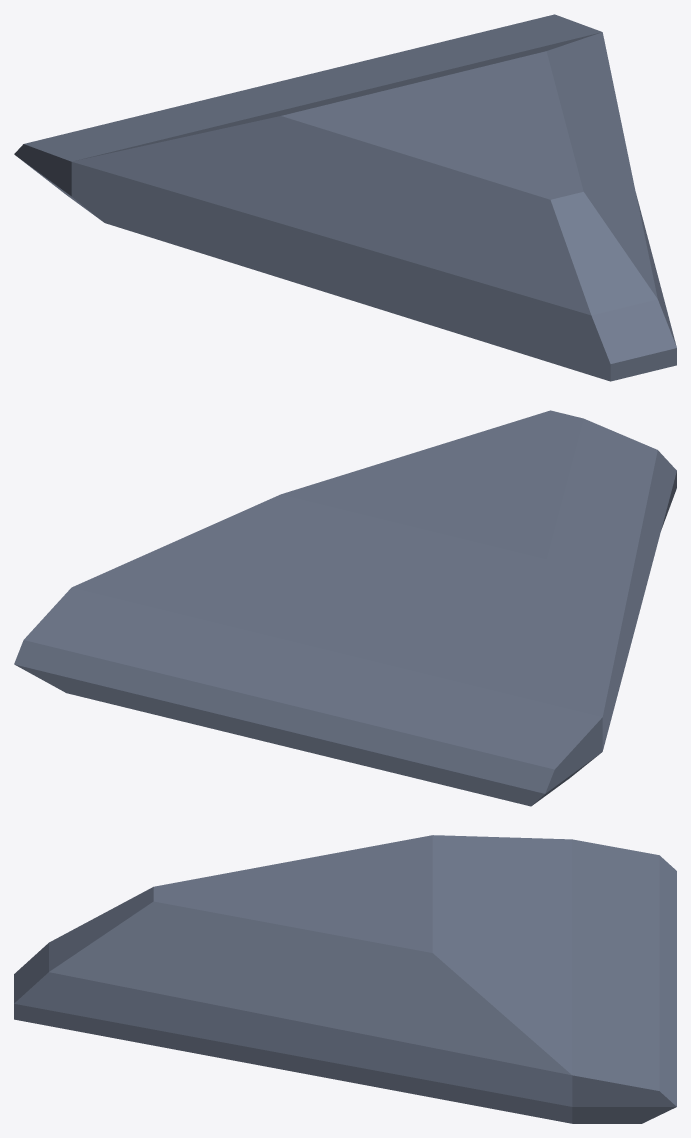
The model's file is dropship5.gltf.
3 renders of one model, top to bottom at view 1: azimuth 30°, elevation 25°; view 2: azimuth 150°, elevation 25°; view 3: azimuth 270°, elevation 25°, orthographic. The views are drawn at different scales.
Visible parts, largest first — view 1: cuboid; view 2: cuboid; view 3: cuboid.
Part boxes in pixels (left/top/right/bottom): cuboid: left=14, top=14, right=676, bottom=381; cuboid: left=14, top=410, right=676, bottom=806; cuboid: left=14, top=835, right=676, bottom=1123.
Bounding box in the file's own units: 1 × 0.25 × 1.19.
Materials: 1 (1 with a texture image).
